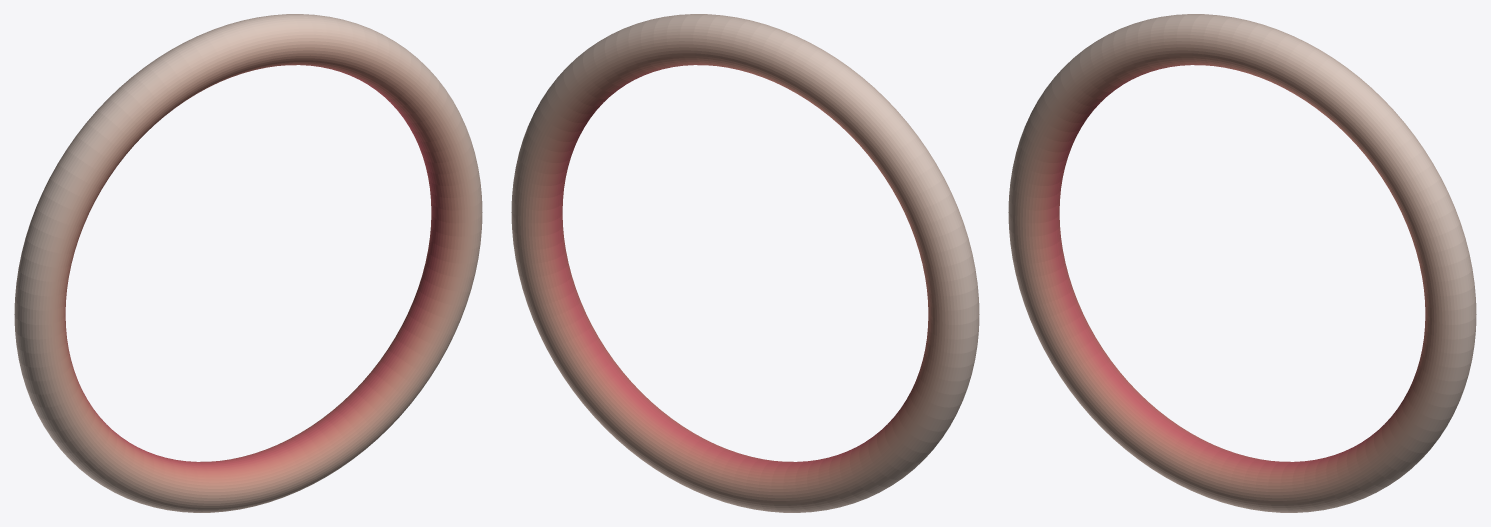
3 renders of one model, left to right at view 1: azimuth 30°, elevation 25°; view 2: azimuth 150°, elevation 25°; view 3: azimuth 330°, elevation 25°, orthographic.
Visible parts, largest first — view 1: world; view 2: world; view 3: world.
Boxes of the visible parts, bbox=[...] form: world: bbox=[14, 14, 482, 512]; world: bbox=[511, 14, 979, 512]; world: bbox=[1008, 14, 1476, 512].
Size of the model in its own units: 23.6 by 23.6 by 2.26.
